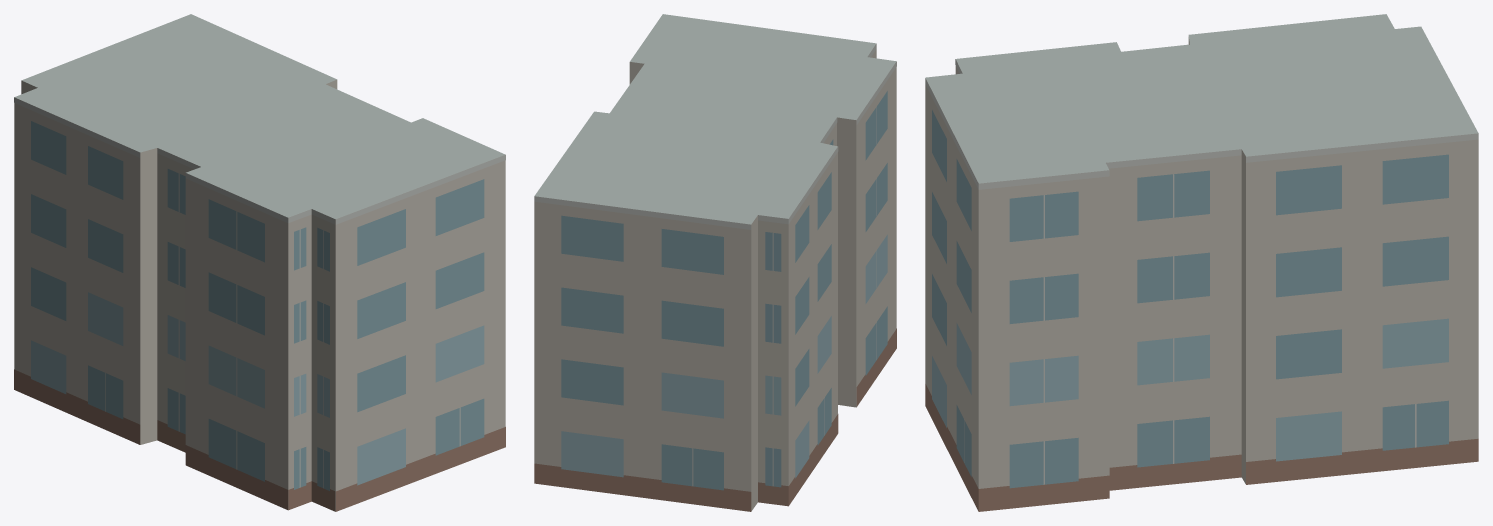
Rendered from survey-upis-32937291.glb.
3 views of the same model, side by side, from view 1: azimuth 30°, elevation 25°; view 2: azimuth 150°, elevation 25°; view 3: azimuth 270°, elevation 25° (orthographic). The views are drawn at different scales.
Parts seen in each view (by area): view 1: survey-upis-32937291.tmp; view 2: survey-upis-32937291.tmp; view 3: survey-upis-32937291.tmp.
Part boxes in pixels (<box>): survey-upis-32937291.tmp: <box>14,14,505,511</box>; survey-upis-32937291.tmp: <box>534,14,896,511</box>; survey-upis-32937291.tmp: <box>925,14,1478,511</box>.
Bounding box in the file's own units: 14.36 × 12.95 × 19.8.
